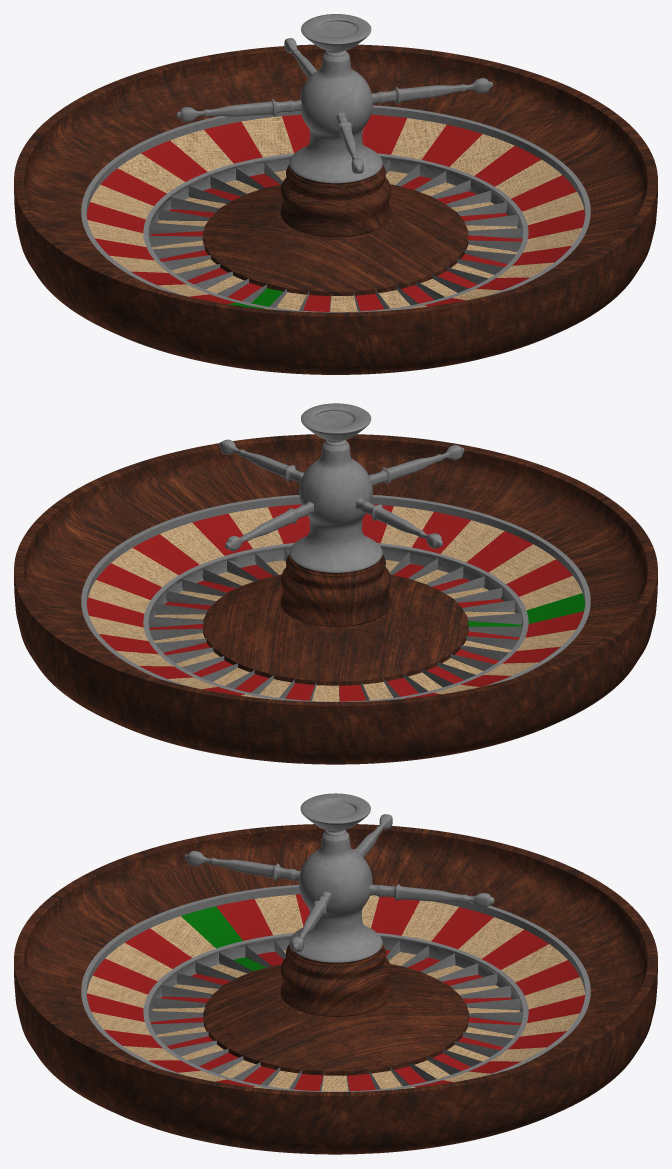
The model's file is roulette2.glb.
3 renders of one model, top to bottom at view 1: azimuth 30°, elevation 25°; view 2: azimuth 150°, elevation 25°; view 3: azimuth 270°, elevation 25°, orthographic.
Visible parts, largest first — view 1: Object_8, Object_7, Object_4, Object_5; view 2: Object_8, Object_7, Object_4, Object_5, Object_6; view 3: Object_8, Object_7, Object_5, Object_4, Object_6.
Boxes of the visible parts, <box> form: Object_8: <box>14,44,657,374</box>; Object_7: <box>81,14,590,312</box>; Object_4: <box>86,114,585,311</box>; Object_5: <box>87,116,583,311</box>; Object_8: <box>14,434,657,764</box>; Object_7: <box>81,403,590,702</box>; Object_4: <box>87,504,583,701</box>; Object_5: <box>88,506,582,701</box>; Object_6: <box>468,593,584,626</box>; Object_8: <box>14,824,657,1154</box>; Object_7: <box>81,793,590,1091</box>; Object_5: <box>87,894,585,1091</box>; Object_4: <box>86,894,584,1091</box>; Object_6: <box>181,906,265,970</box>.
Bounding box in the file's own units: 4.19 × 1.62 × 4.19.
5 materials, 3 textured.
